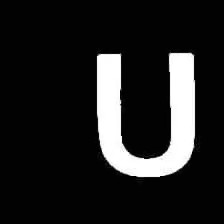LTR_U: (89, 40, 203, 181)
